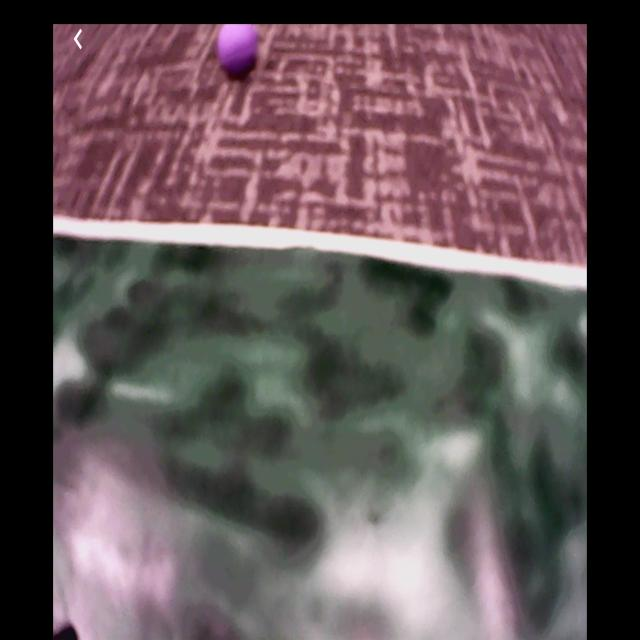ball: (217, 27, 259, 77)
